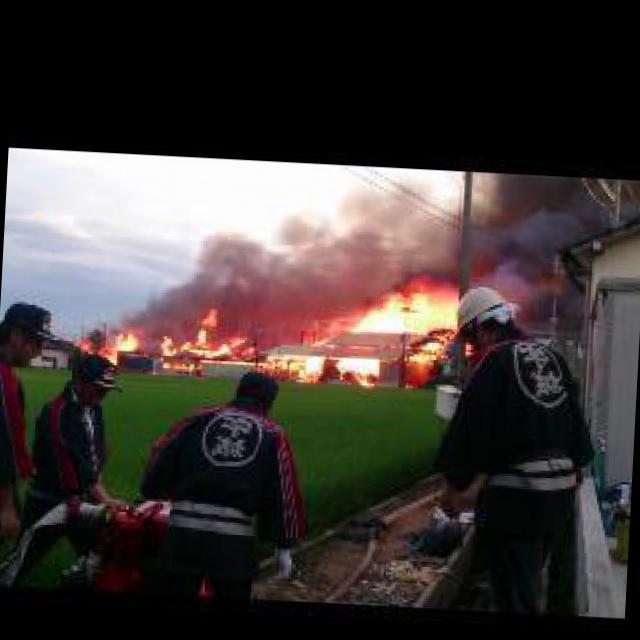fire: (344, 293, 459, 362), (160, 307, 264, 371), (83, 329, 138, 364), (260, 353, 326, 381), (330, 357, 380, 387), (308, 320, 343, 348)
smoke: (180, 184, 438, 326)
